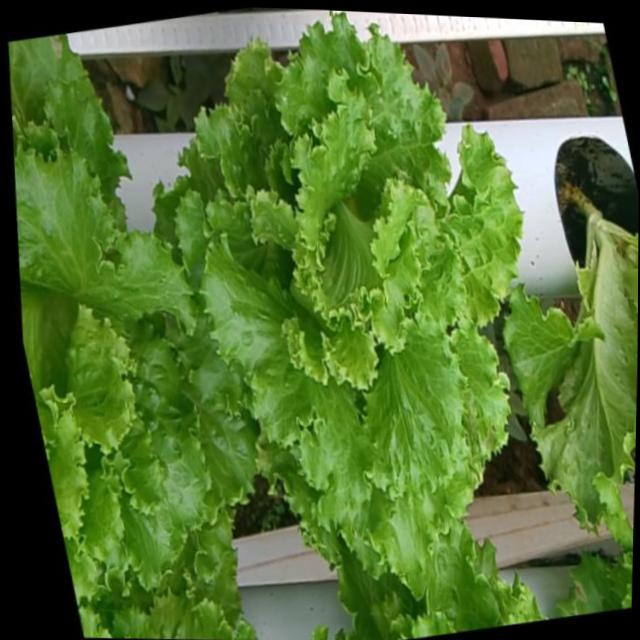Mature: (165, 10, 514, 566), (12, 129, 249, 579)
